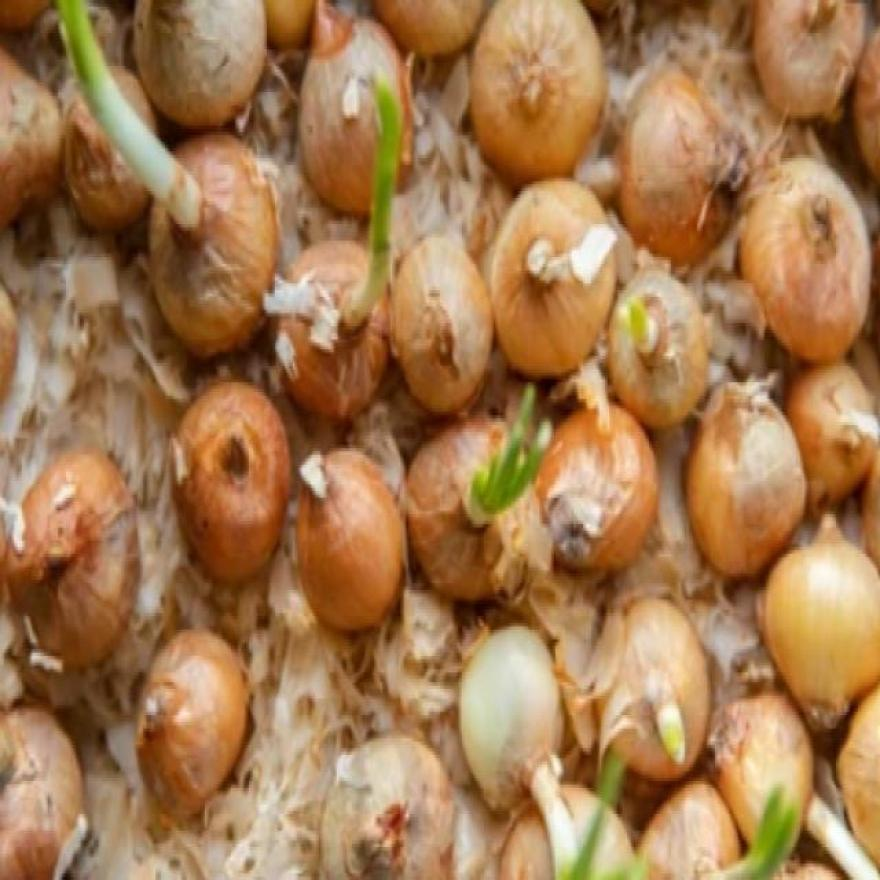Rotten: (203, 419, 263, 527)
Sprouted: (100, 105, 207, 228), (525, 748, 609, 870), (350, 119, 392, 336), (470, 451, 542, 514), (693, 827, 787, 870)
